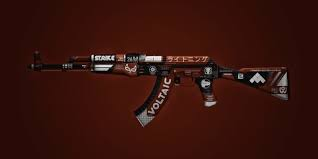gun: (21, 50, 292, 128)
